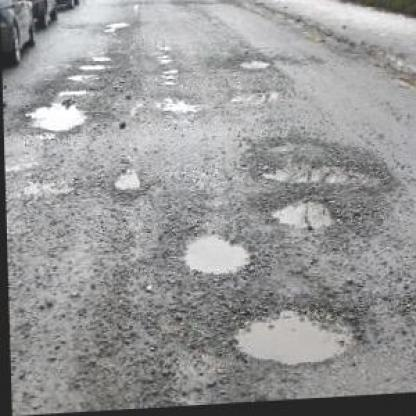pothole: (227, 298, 362, 372), (248, 138, 387, 196), (179, 226, 256, 282), (265, 193, 347, 237), (22, 97, 89, 133), (111, 168, 143, 193), (102, 19, 132, 35), (239, 60, 273, 74), (78, 60, 106, 70), (67, 72, 97, 81)
